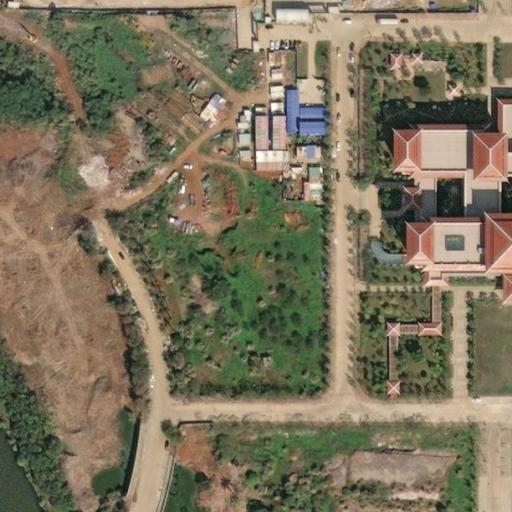building: (380, 127, 512, 267), (194, 85, 229, 122), (494, 95, 512, 141), (301, 162, 322, 199), (489, 266, 512, 296), (271, 5, 309, 23), (286, 105, 313, 130), (295, 141, 320, 160), (273, 86, 287, 115), (410, 265, 435, 280), (371, 318, 387, 336), (406, 320, 428, 332), (377, 49, 390, 68), (373, 379, 387, 392), (273, 114, 283, 132), (399, 48, 410, 62), (435, 82, 447, 93), (145, 313, 156, 321), (153, 341, 159, 352)
